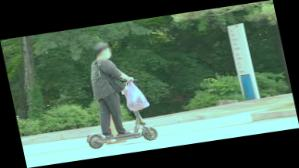helmet: (64, 36, 161, 151)
